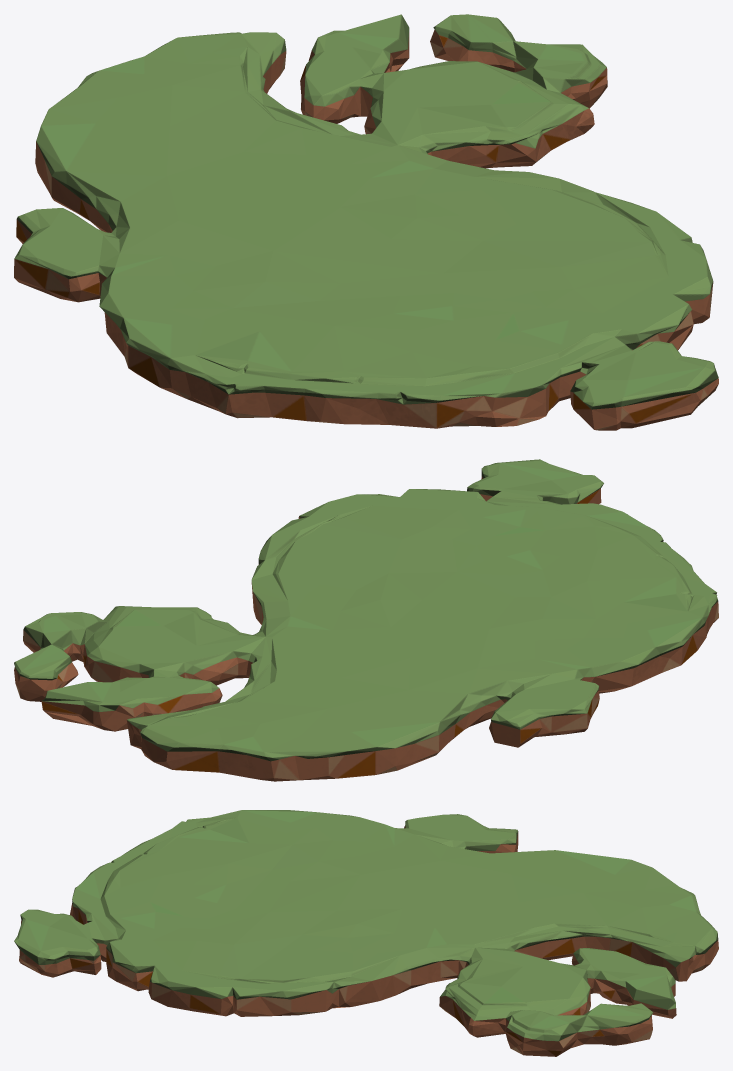
The model's file is island2.glb.
The picture shows the model from 3 angles, top to bottom: view 1: azimuth 30°, elevation 25°; view 2: azimuth 150°, elevation 25°; view 3: azimuth 270°, elevation 25°; orthographic projection. The views are drawn at different scales.
Visible parts, largest first — view 1: node_id30; view 2: node_id30; view 3: node_id30.
Boxes of the visible parts, bbox=[...] form: node_id30: bbox=[14, 14, 718, 430]; node_id30: bbox=[14, 459, 718, 781]; node_id30: bbox=[14, 810, 718, 1056].
Bounding box in the file's own units: 0.549 × 0.0304 × 0.7182.
Materials: 1 (1 with a texture image).
